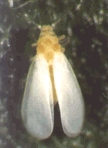whitefly: (20, 18, 87, 138)
